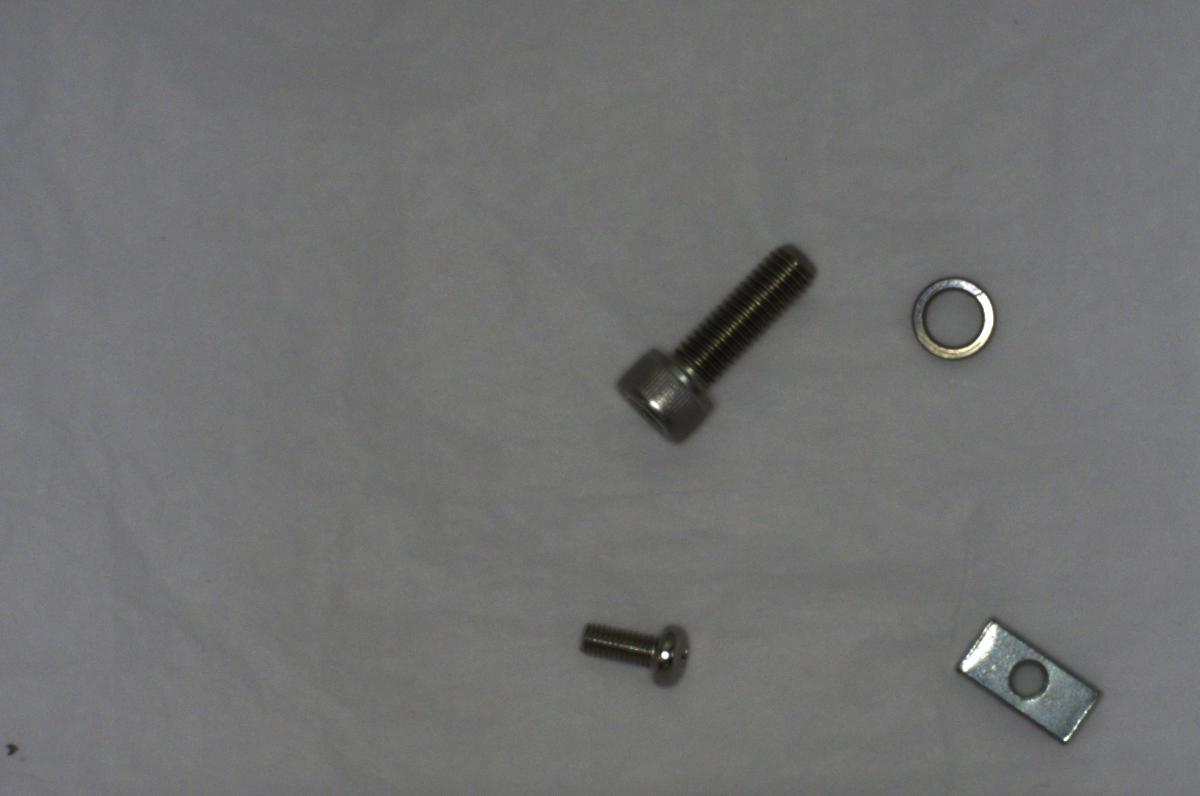Hexagon screw: (598, 238, 831, 445)
Rectangular nut: (946, 618, 1106, 747)
Round head screw: (572, 613, 692, 689)
Spring washer: (902, 270, 1011, 374)
